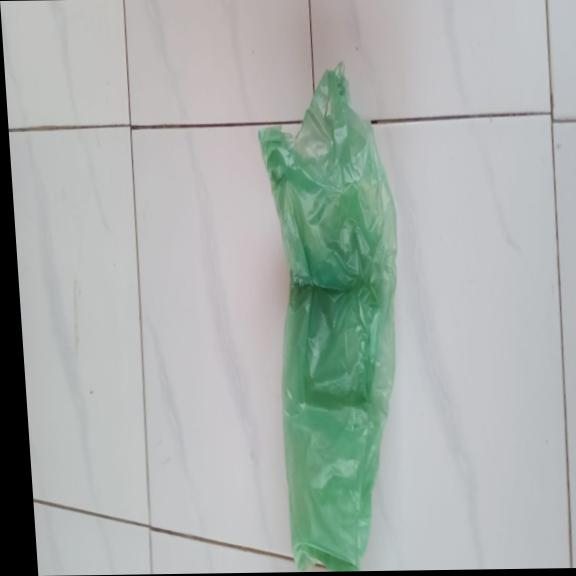Plastik: (252, 60, 420, 572)
